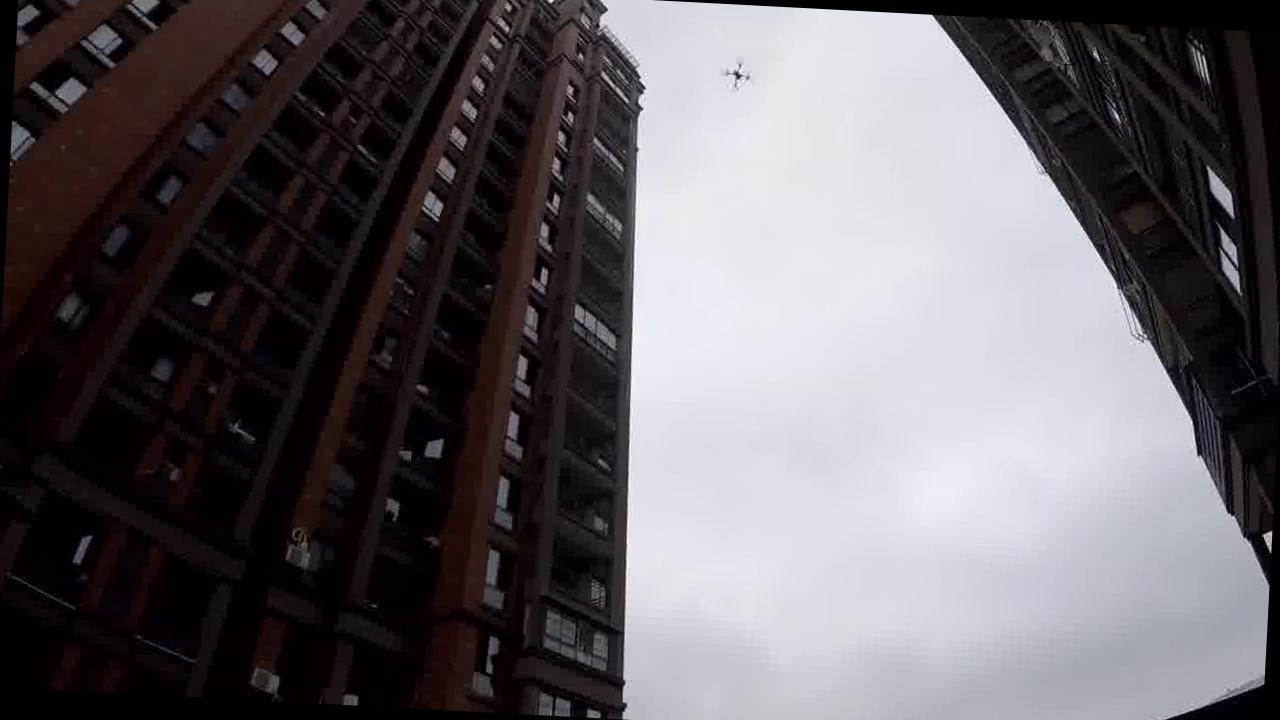drone: (706, 43, 774, 102)
